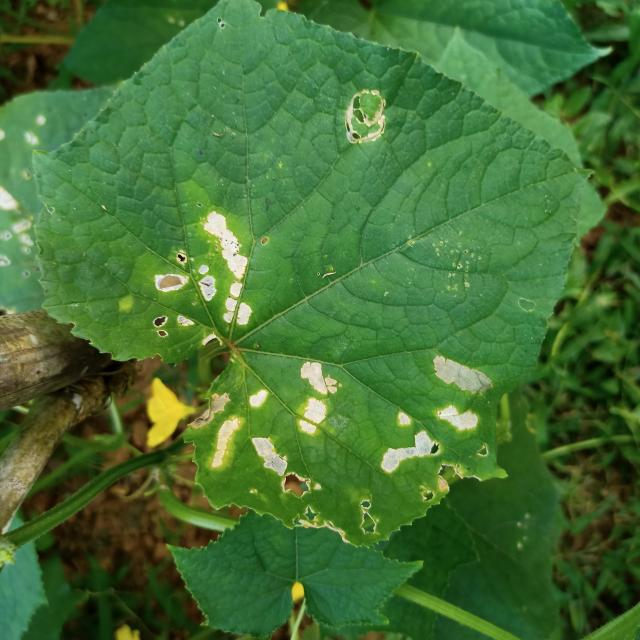disease_cucumber: (144, 206, 262, 345), (194, 379, 287, 478), (428, 353, 496, 437), (290, 355, 344, 439), (374, 410, 433, 477)
